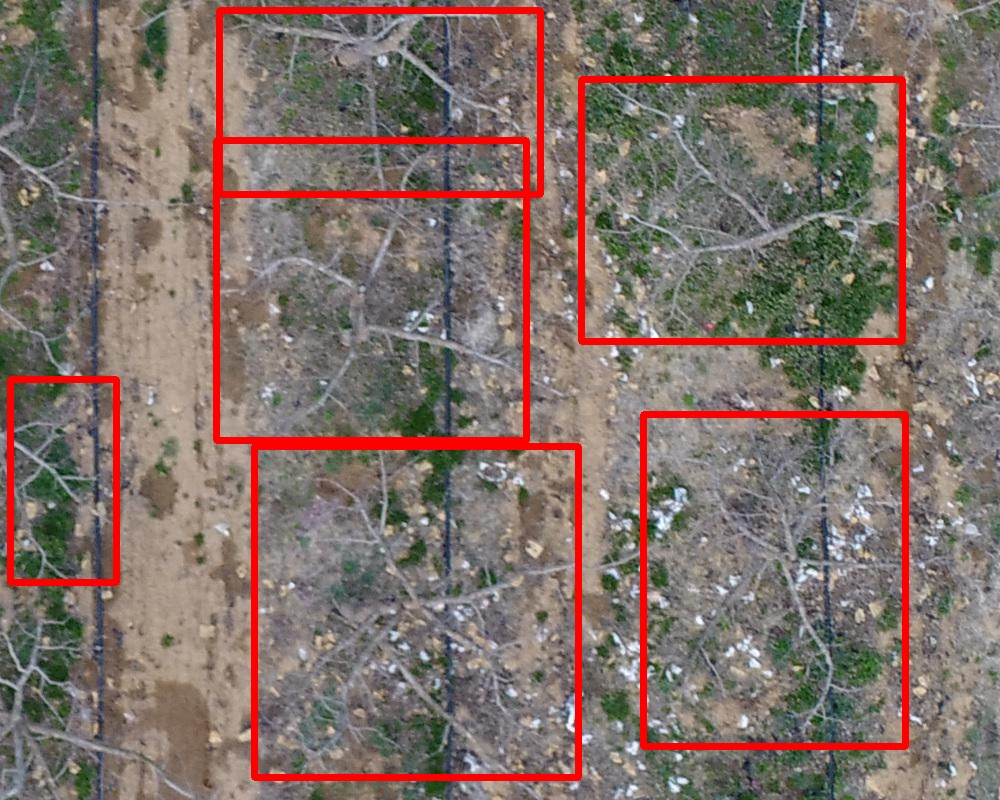apple: (254, 446, 578, 777), (216, 140, 526, 440), (643, 414, 905, 746), (581, 79, 902, 341), (219, 10, 540, 194), (10, 379, 116, 582)
